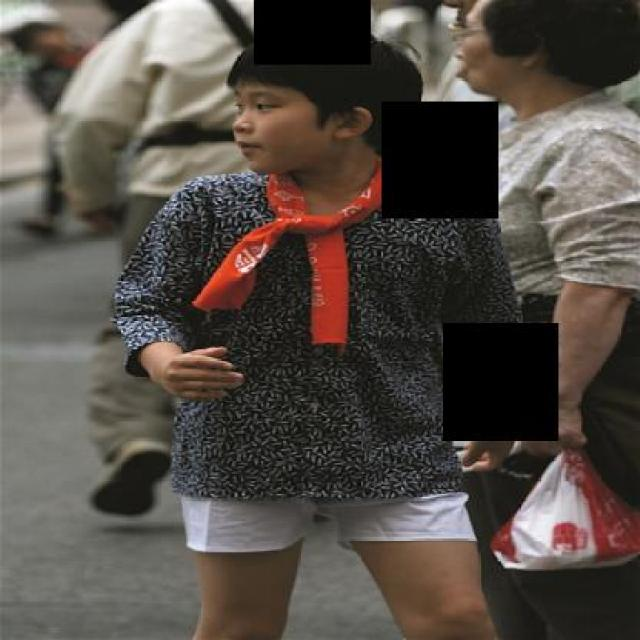plastic bag: (440, 425, 638, 569)
